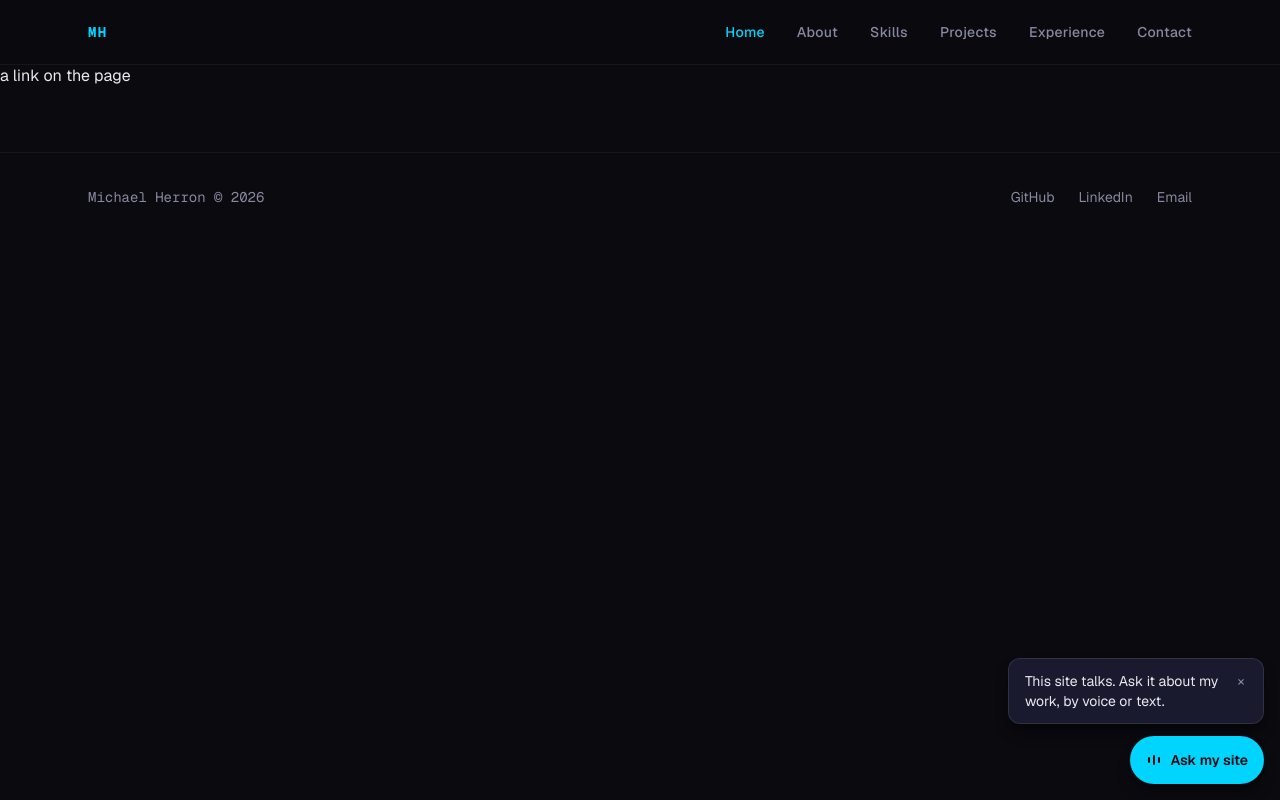
Test case: ConciergePanel › Minimize closes it and hands focus back to the widget
Click the button "Ask my site".
click(1197, 760)  # box [1130,736,1264,784]
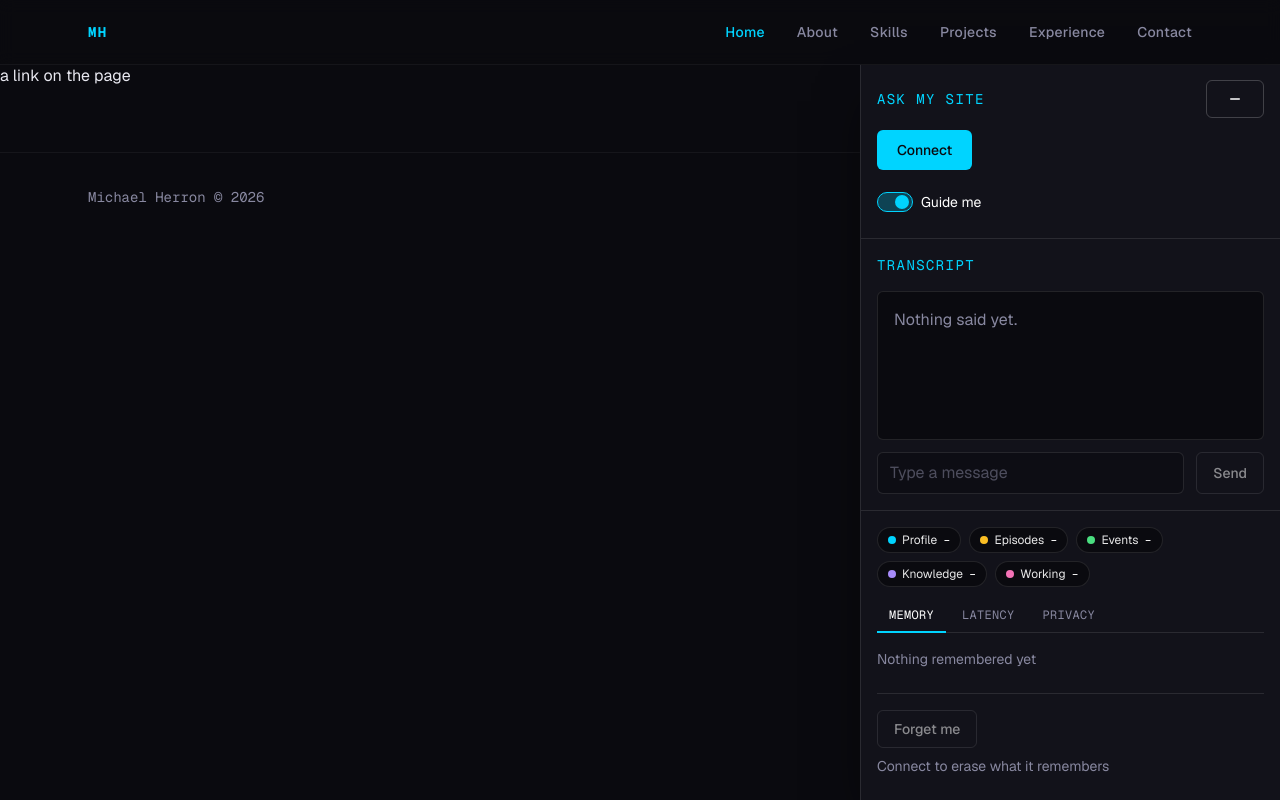
Click the button named "Minimize".
click(1235, 99)  # box [1206,80,1264,118]
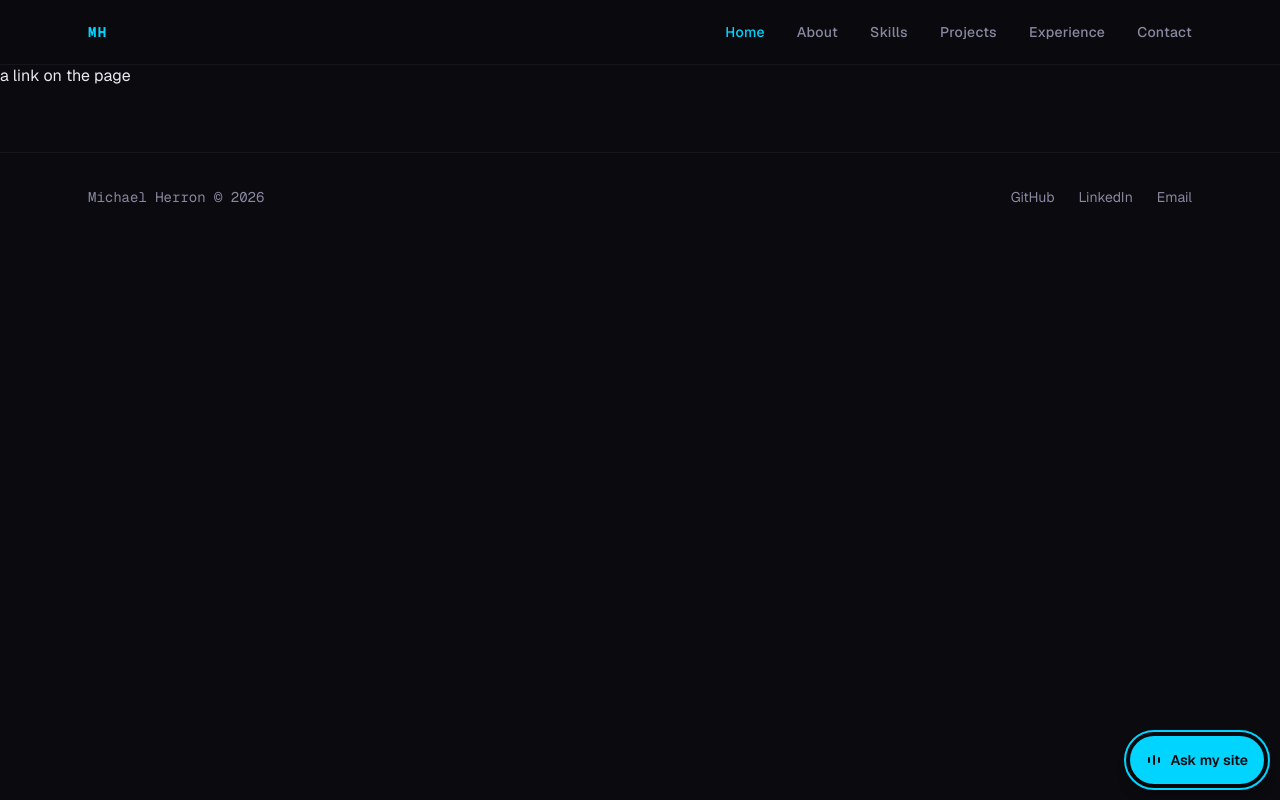
Now the dialog is gone
